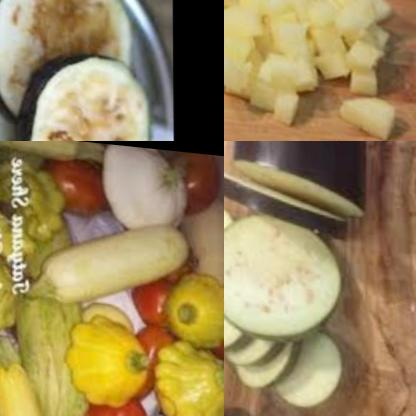eggplant: (224, 208, 369, 407), (0, 0, 156, 141), (224, 141, 413, 252)
potato: (224, 0, 403, 132)
squash-patisson: (65, 310, 164, 411), (0, 143, 67, 262), (102, 141, 188, 231), (153, 258, 224, 351), (154, 330, 224, 416), (0, 228, 37, 338)
tomato: (44, 149, 112, 218), (166, 144, 224, 214), (80, 385, 145, 416)
vegetable marrow: (17, 200, 207, 321), (0, 317, 66, 416), (189, 179, 224, 281)
